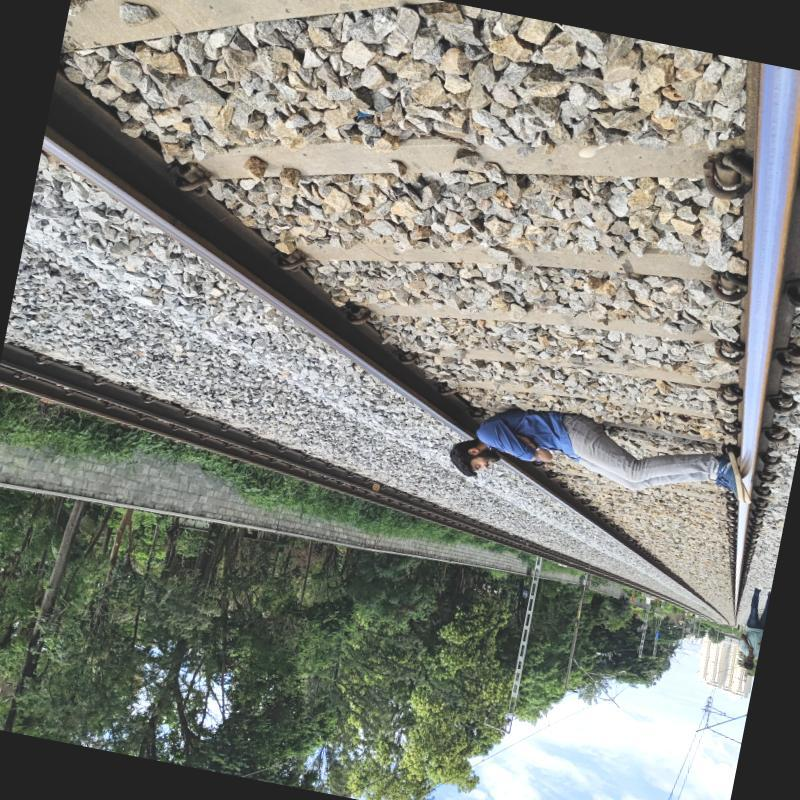sleeping: (420, 389, 770, 538)
